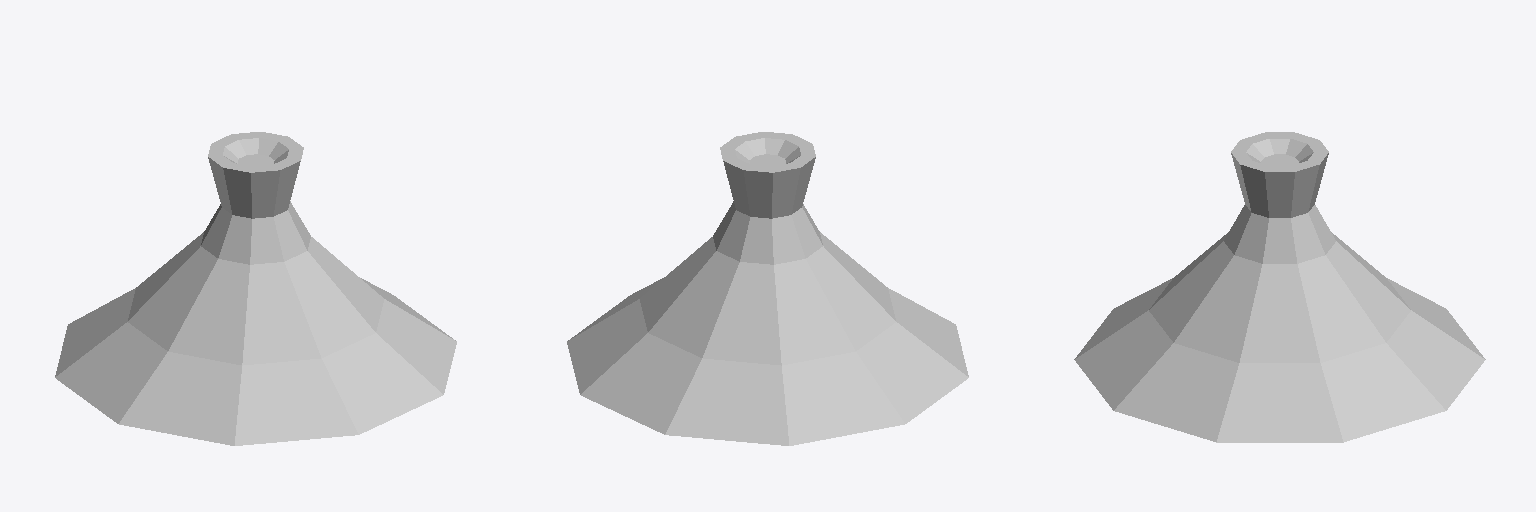
File: tajine-lid.obj
3 views of the same model, side by side, from view 1: azimuth 30°, elevation 25°; view 2: azimuth 150°, elevation 25°; view 3: azimuth 270°, elevation 25° (orthographic).
Visible parts, largest first — view 1: tajine-lid; view 2: tajine-lid; view 3: tajine-lid.
Boxes of the visible parts, x1=… form: tajine-lid: x1=55, y1=132, x2=456, y2=445; tajine-lid: x1=567, y1=132, x2=968, y2=445; tajine-lid: x1=1074, y1=132, x2=1485, y2=442.
Bounding box in the file's own units: 0.7555 × 0.442 × 0.7943.